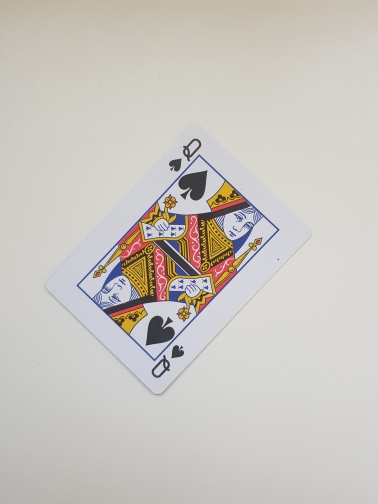queen: (43, 120, 314, 397)
